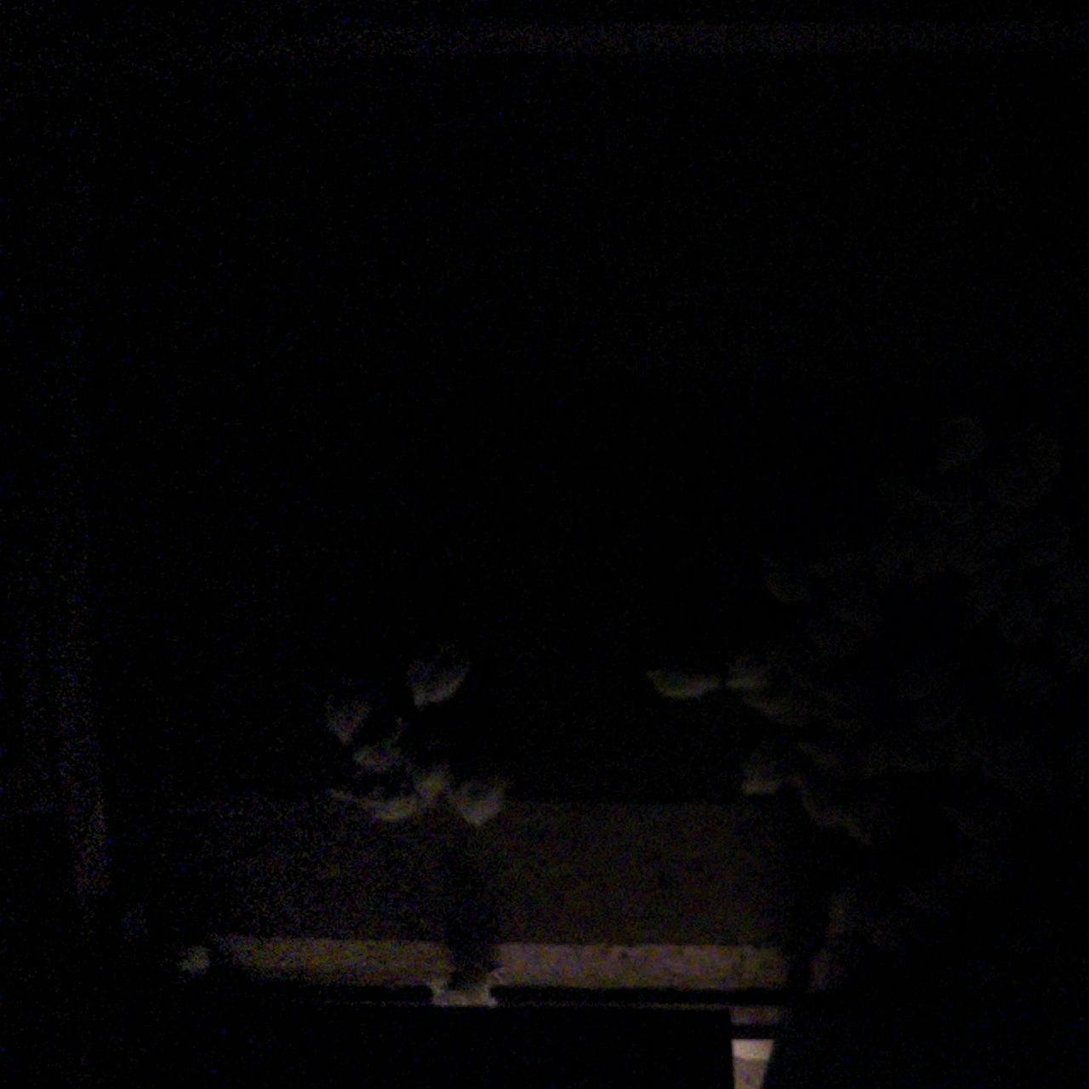chicken: (791, 763, 895, 848), (316, 758, 437, 831), (982, 406, 1063, 515), (810, 542, 888, 636), (393, 624, 474, 713), (870, 465, 973, 529), (309, 652, 378, 744), (726, 661, 823, 725), (972, 723, 1041, 810), (929, 395, 992, 484), (874, 519, 967, 579), (421, 949, 503, 1017), (795, 724, 888, 783), (735, 723, 806, 797), (987, 645, 1062, 712), (743, 532, 811, 605), (945, 515, 1011, 588), (1015, 495, 1076, 573), (450, 755, 517, 826), (889, 640, 962, 705), (351, 709, 416, 781), (790, 603, 865, 665), (716, 631, 793, 691), (938, 788, 1017, 846), (641, 651, 724, 706), (960, 570, 1025, 640), (803, 931, 869, 999), (789, 663, 869, 718), (888, 867, 970, 916), (164, 932, 226, 996), (937, 847, 1019, 895), (1037, 601, 1089, 674), (403, 736, 462, 799), (1038, 549, 1089, 616), (878, 723, 945, 772), (107, 889, 155, 957), (988, 584, 1036, 651), (820, 877, 868, 944), (1057, 722, 1089, 808), (855, 898, 901, 953), (919, 682, 969, 732)
